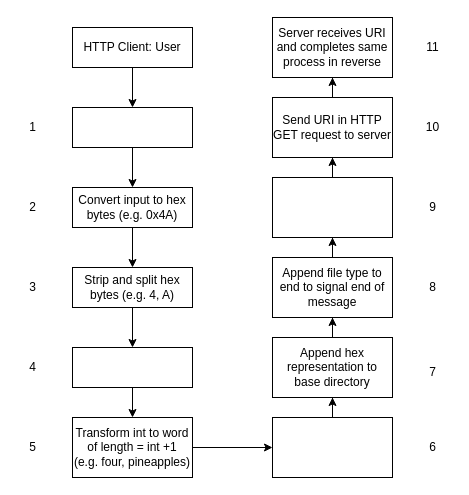
The diagram is 469 pixels wide and 495 high, and some of its shapes have lost their labels. Each missing label, with the centre of its shape:
Convert hex digit to integer (e.g. 4, A): (132,367)
Join words with special character (e.g four&pineapples): (332,447)
URI: http://basedir.com/ four&pinapples.txt: (332,207)
User input (e.g. "J"): (132,127)
